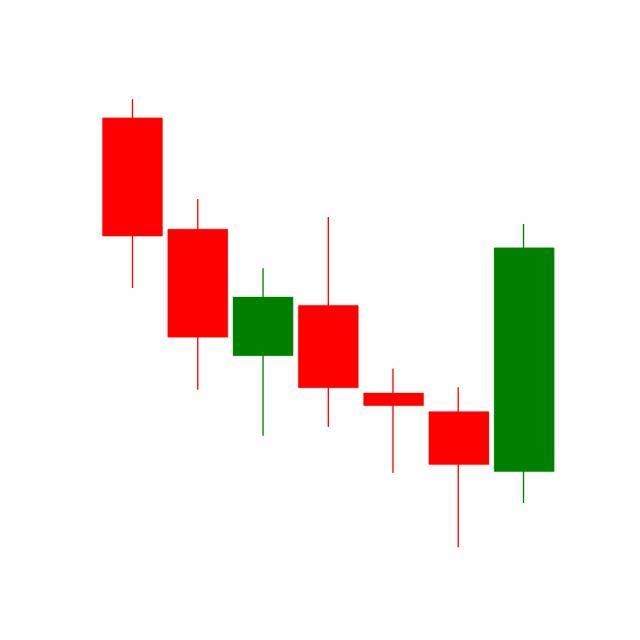Three Line Strike: (294, 213, 555, 549)
